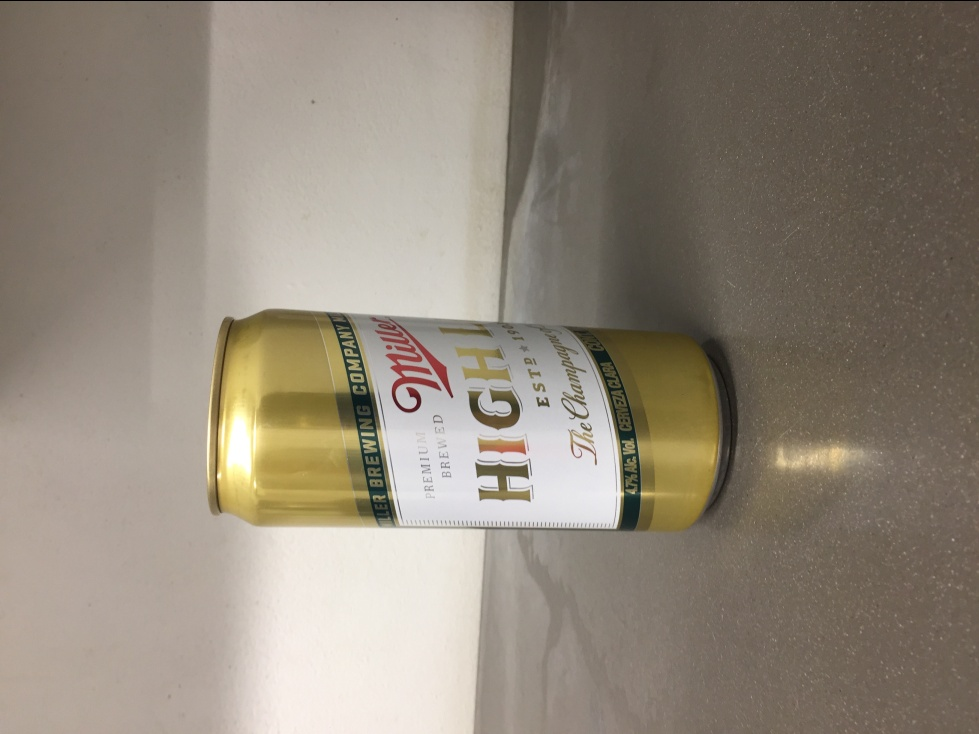miller: (202, 303, 730, 540)
